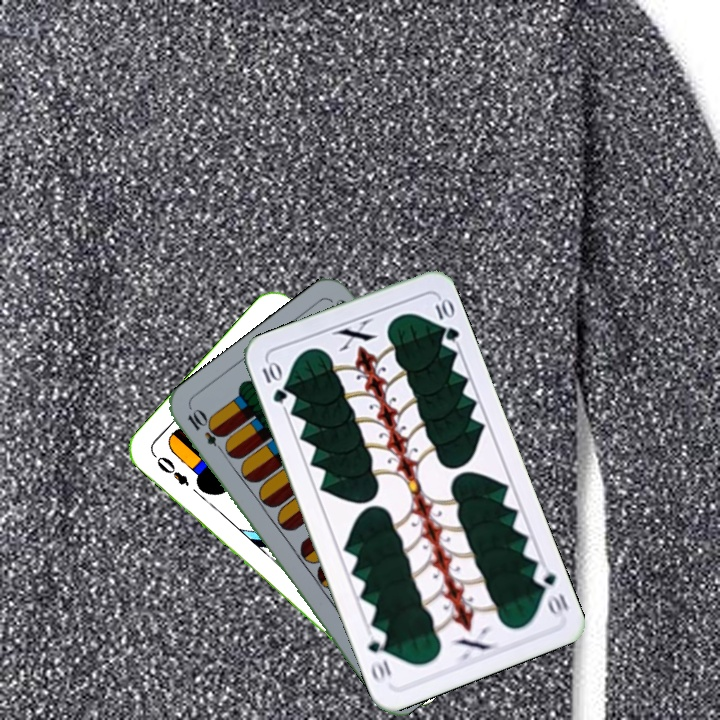E10: (183, 406, 229, 457)
EO: (149, 450, 192, 489)
G10: (529, 561, 572, 621), (258, 357, 290, 406)
